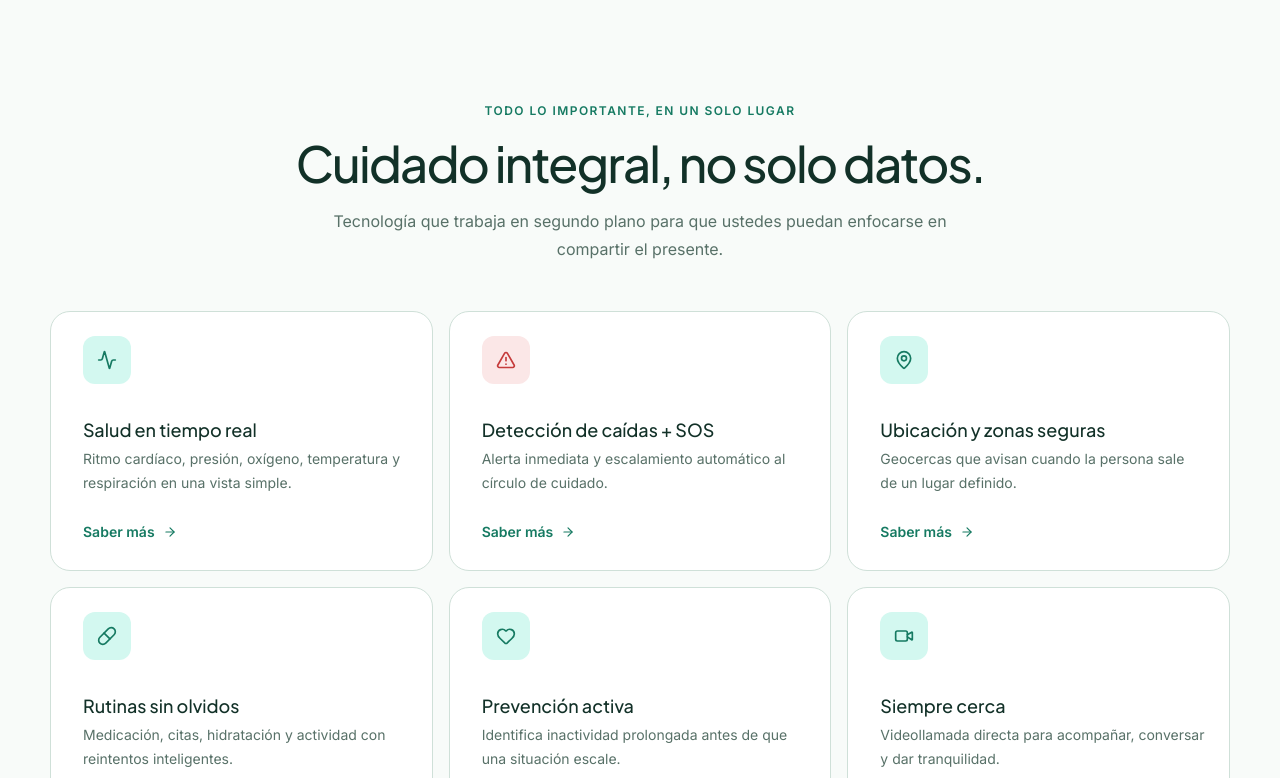
Test: BenefitsSection › expands complementary information when the visitor selects Saber más
Click the button named "saber más sobre ubicación y zonas seguras".
click(927, 524)  # box x1=880 y1=502 x2=974 y2=546
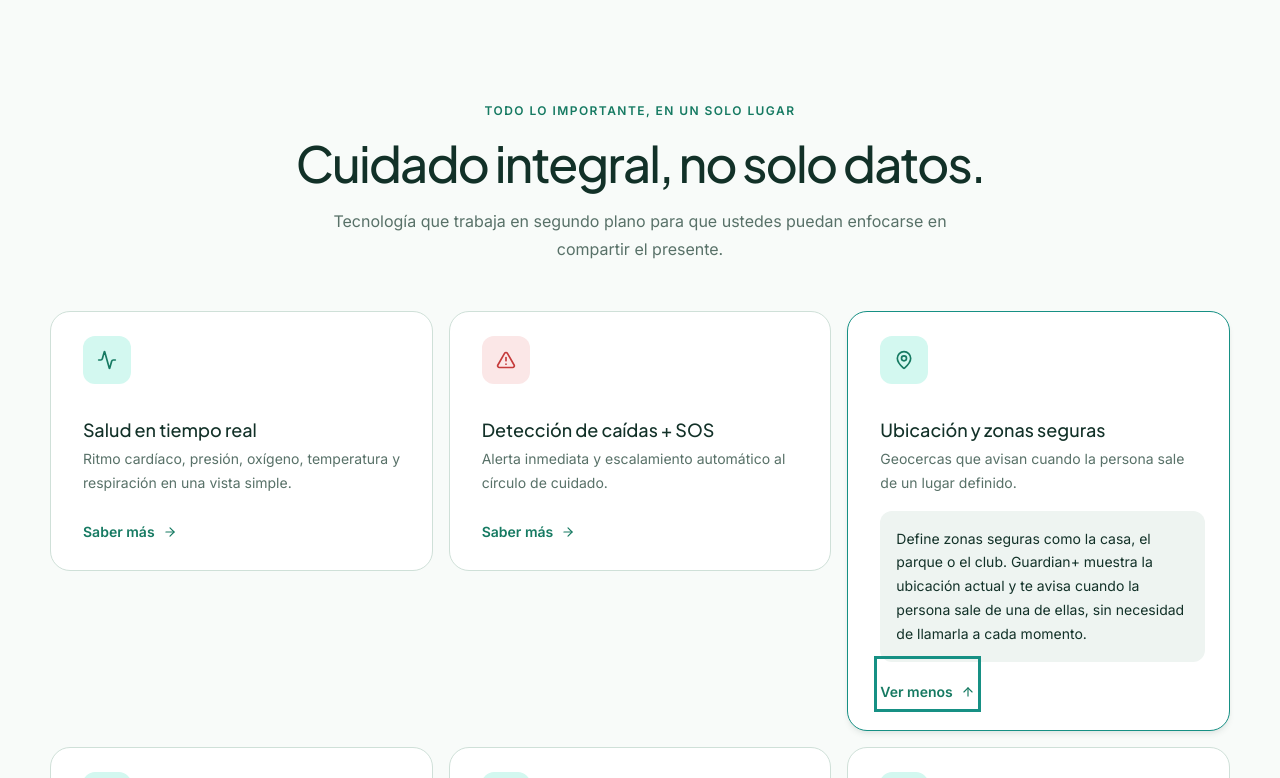
Result: the button named "saber más sobre ubicación y zonas seguras" is expanded at x1=880 y1=662 x2=975 y2=706
Result: the button named "saber más sobre ubicación y zonas seguras" reads "Ver menos" at x1=880 y1=662 x2=975 y2=706
